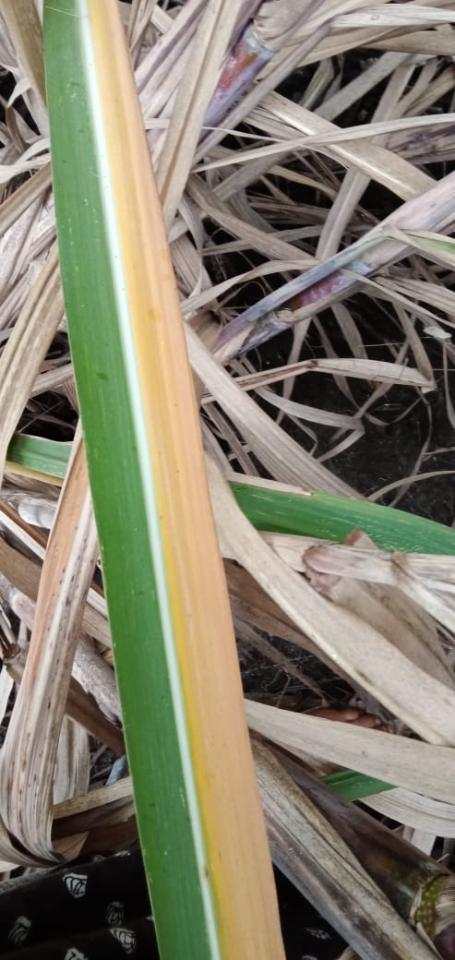Yellow: (88, 0, 287, 959)
